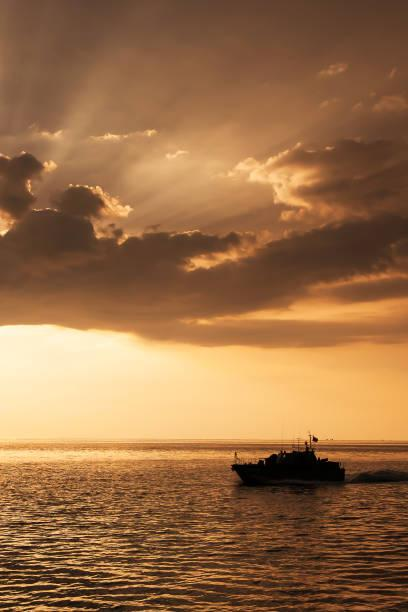MIL_Ship: (228, 442, 352, 484)
